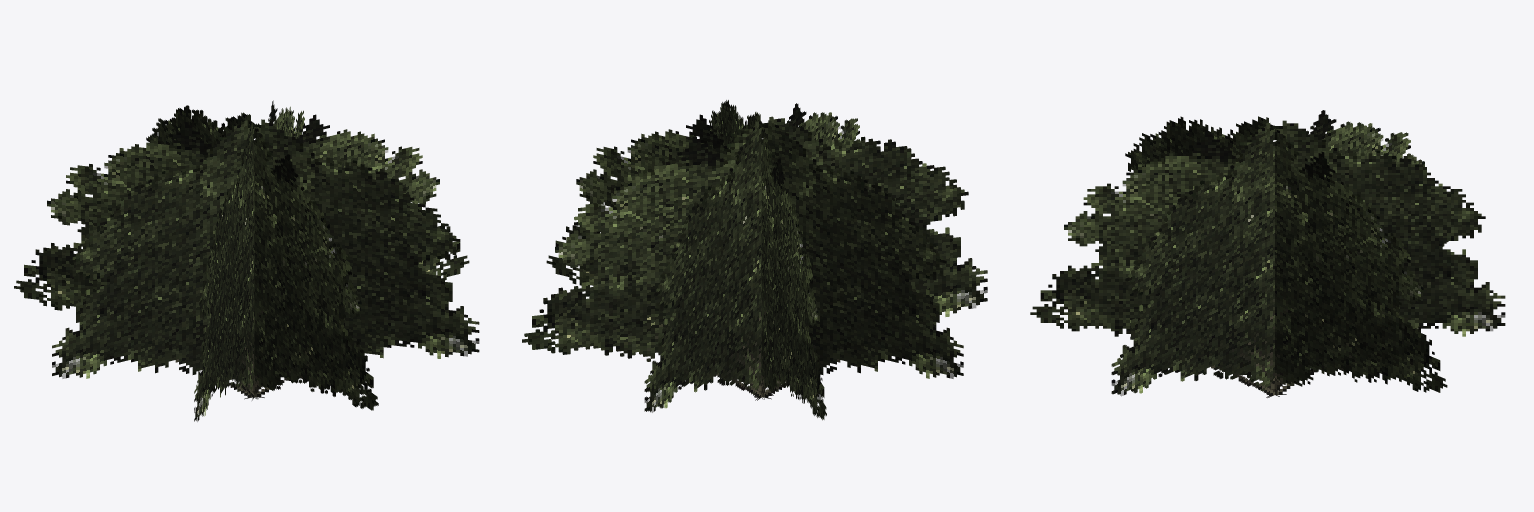
The model's file is bush02.glb.
The picture shows the model from 3 angles, left to right: view 1: azimuth 30°, elevation 25°; view 2: azimuth 150°, elevation 25°; view 3: azimuth 270°, elevation 25°; orthographic projection.
Visible parts, largest first — view 1: bush02; view 2: bush02; view 3: bush02.
Boxes of the visible parts, <box> form: bush02: <box>14,100,479,422</box>; bush02: <box>522,100,987,420</box>; bush02: <box>1030,110,1505,397</box>.
Size of the model in its own units: 12 by 7.5 by 12.
1 material, 1 textured.
